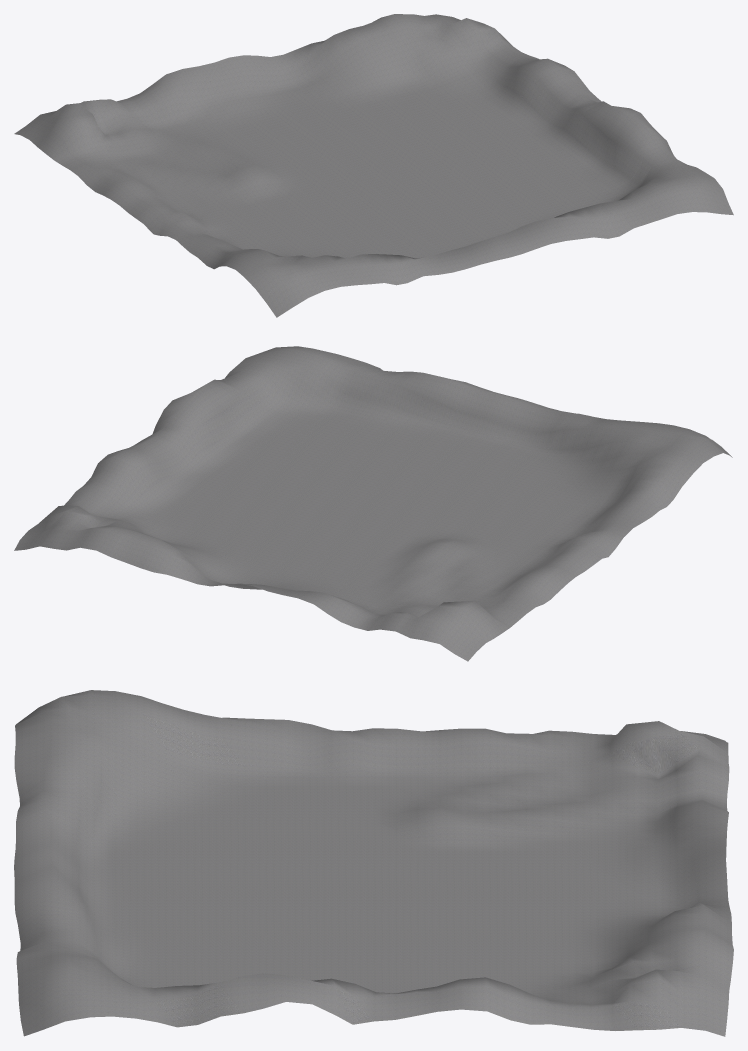
3 renders of one model, top to bottom at view 1: azimuth 30°, elevation 25°; view 2: azimuth 150°, elevation 25°; view 3: azimuth 270°, elevation 25°, orthographic. The views are drawn at different scales.
Visible parts, largest first — view 1: Plane; view 2: Plane; view 3: Plane.
Part boxes in pixels (<box>): Plane: <box>14,14,733,317</box>; Plane: <box>14,346,732,661</box>; Plane: <box>14,690,733,1036</box>.
Bounding box in the file's own units: 103548 × 8533 × 102788.
Materials: 1 (1 with a texture image).
